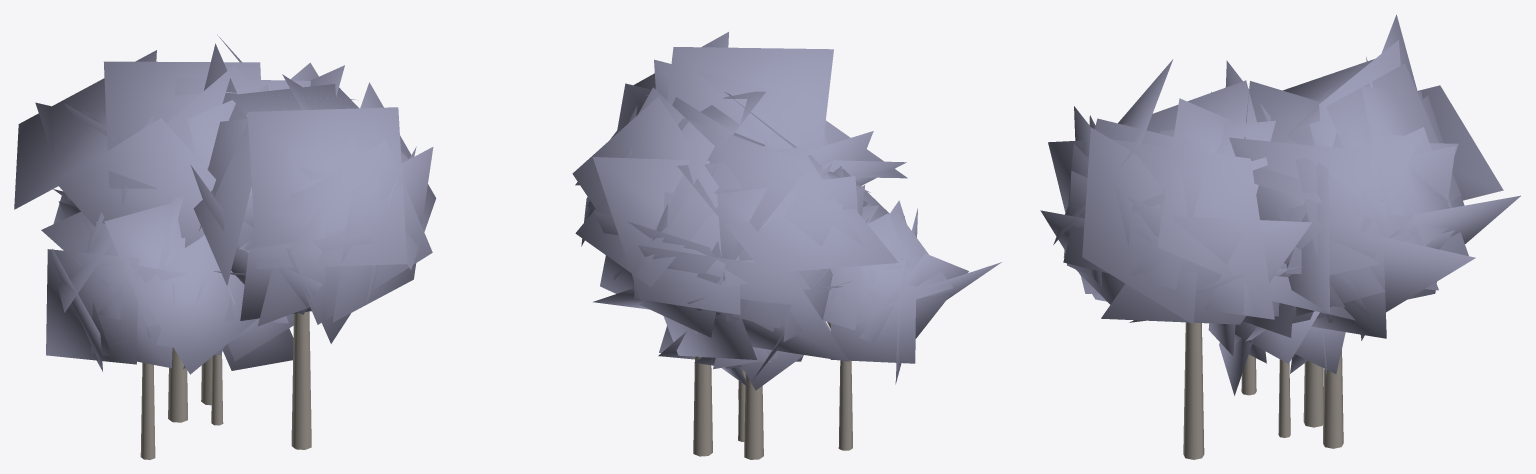
The picture shows the model from 3 angles, left to right: view 1: azimuth 30°, elevation 25°; view 2: azimuth 150°, elevation 25°; view 3: azimuth 270°, elevation 25°; orthographic projection. The views are drawn at different scales.
Parts seen in each view (by area): view 1: leaves, bark; view 2: leaves, bark; view 3: leaves, bark.
Boxes of the visible parts, left/top/right/bottom form: leaves: left=14, top=34, right=436, bottom=374; bark: left=140, top=311, right=311, bottom=459; leaves: left=572, top=32, right=1001, bottom=390; bark: left=693, top=322, right=852, bottom=459; leaves: left=1040, top=14, right=1520, bottom=395; bark: left=1183, top=322, right=1343, bottom=459.
Bounding box in the file's own units: 30.93 × 26.31 × 30.75.
